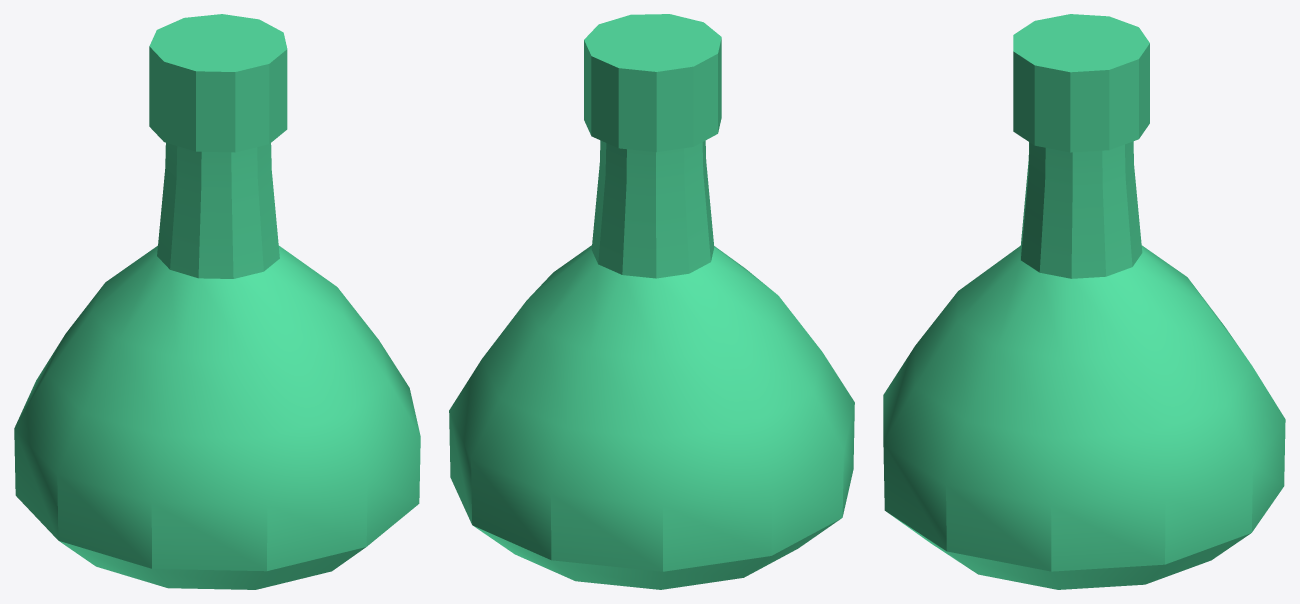
The model's file is Bottle_1.fbx.
3 renders of one model, left to right at view 1: azimuth 30°, elevation 25°; view 2: azimuth 150°, elevation 25°; view 3: azimuth 270°, elevation 25°, orthographic.
Visible parts, largest first — view 1: Sphere.030; view 2: Sphere.030; view 3: Sphere.030.
Part boxes in pixels (x1,y1,x2,y2): Sphere.030: (14,14,420,589); Sphere.030: (449,14,854,589); Sphere.030: (883,14,1285,589).
Bounding box in the file's own units: 31.95 × 41.79 × 31.62.
